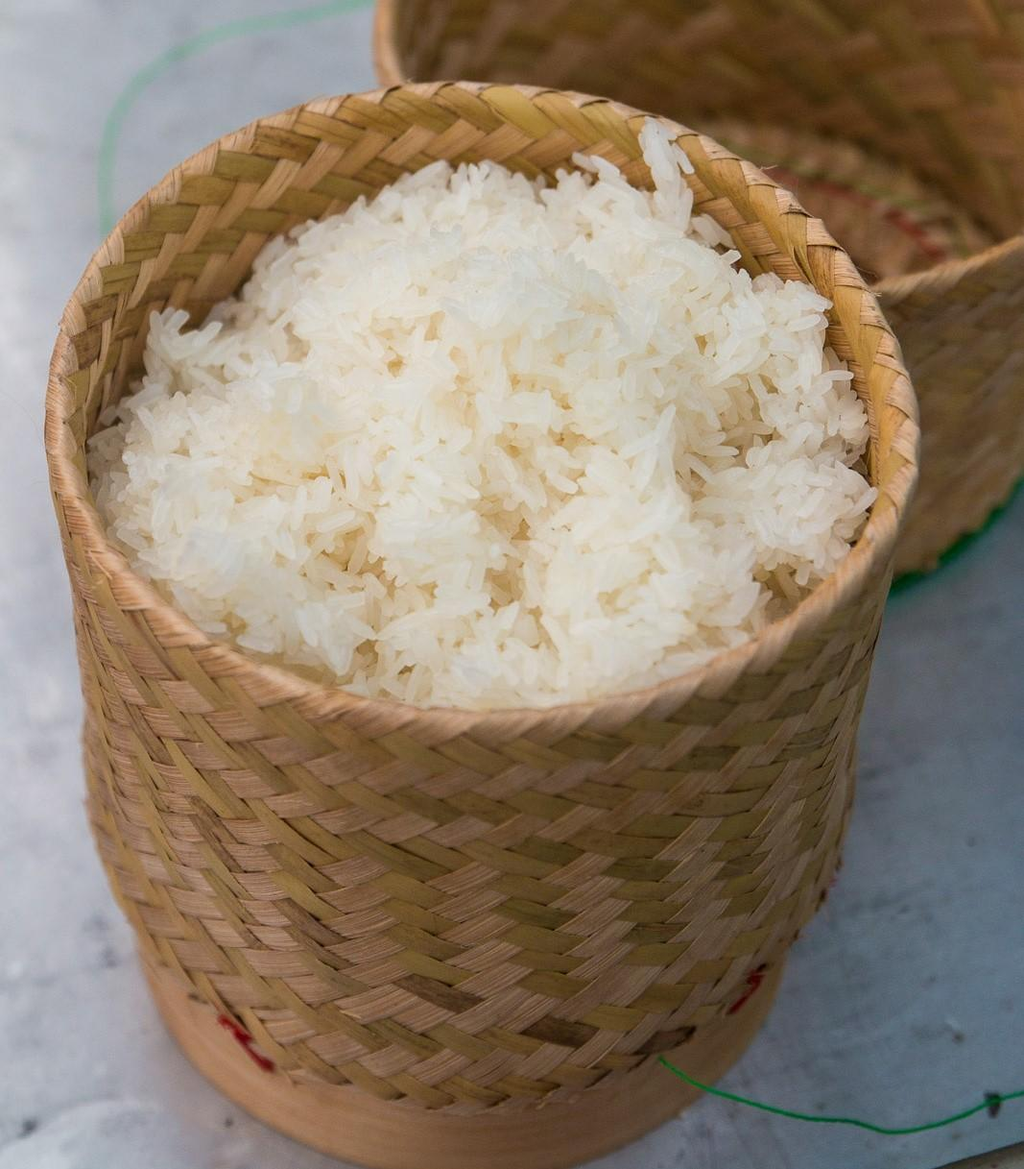WhiteRice: (80, 118, 880, 714)
